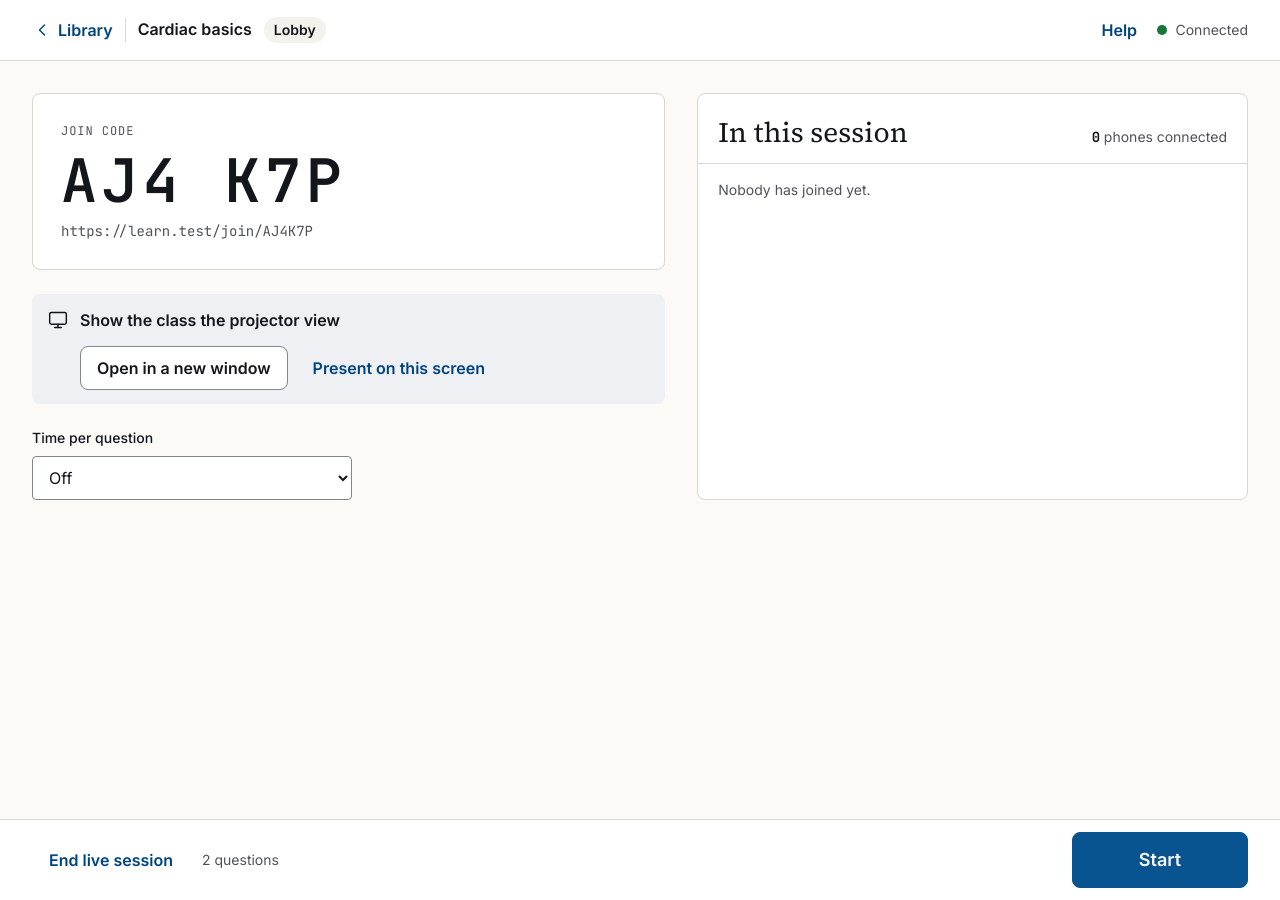
Scenario: the control view: who has not answered yet › shows the question text on the control view
The width and height of the screenshot is (1280, 900).
Step 1. Click the button "Start" → (1160, 860), box [1072,832,1248,888]
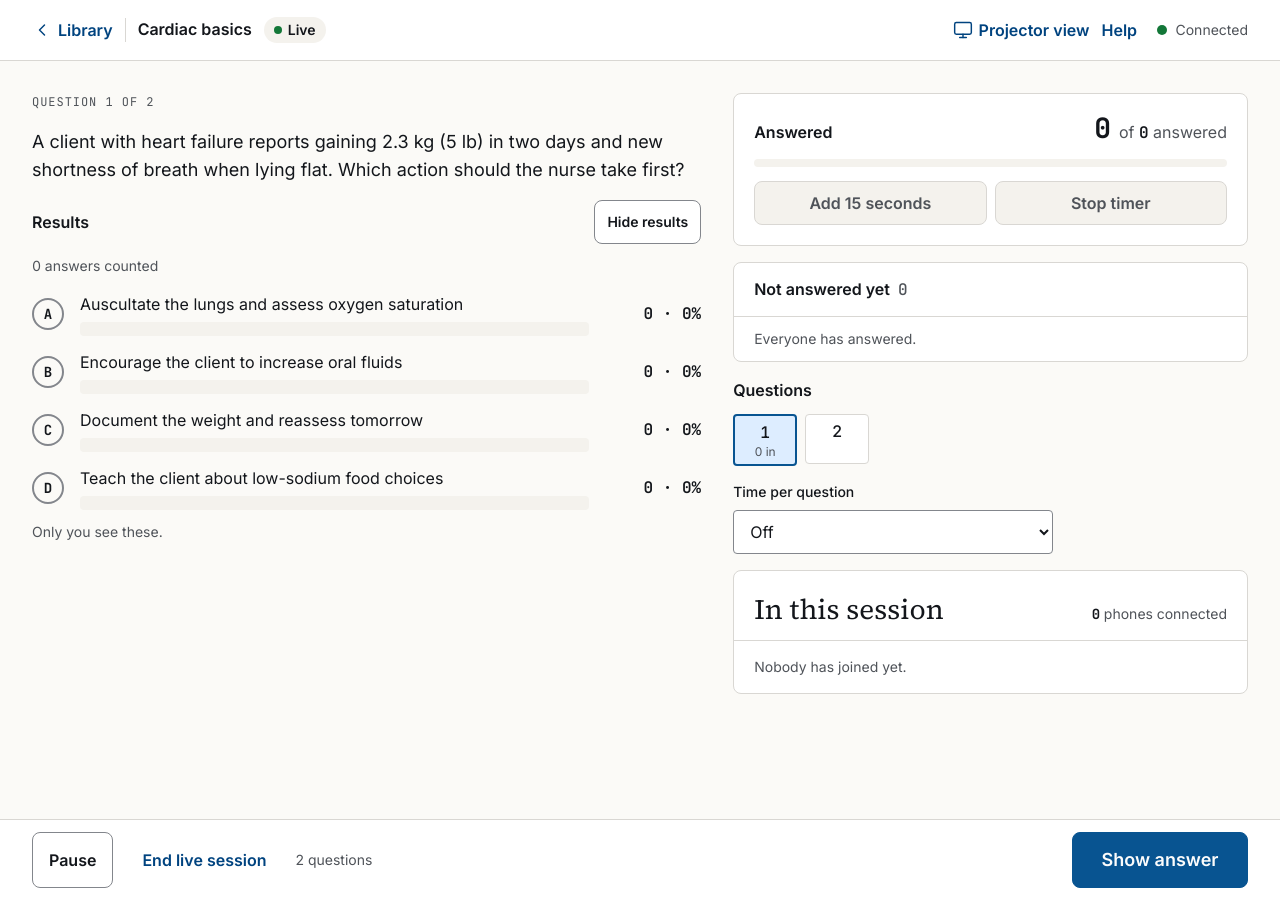
Expected: the text "Document the weight and reassess tomorrow" is shown, [79,409,423,430]
